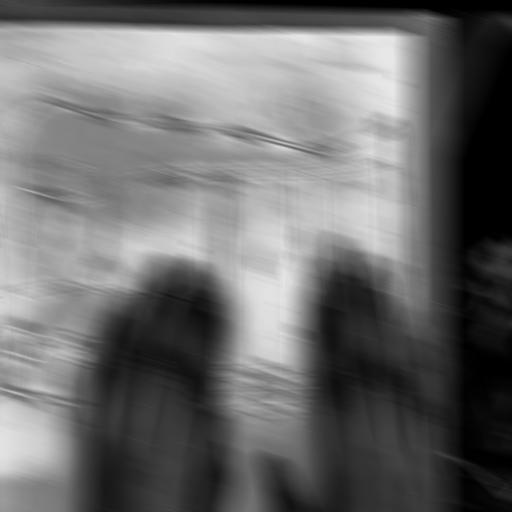bus: (0, 83, 419, 442)
top_left: (404, 24, 421, 43)
